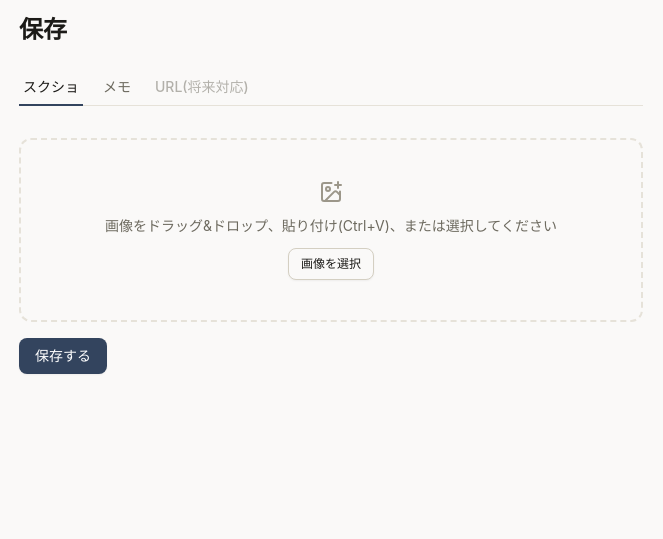
Test: SaveNotePage › 受付エラー時はバナーを表示する
Click the tab "メモ" at (117, 88), box [99, 70, 135, 106]
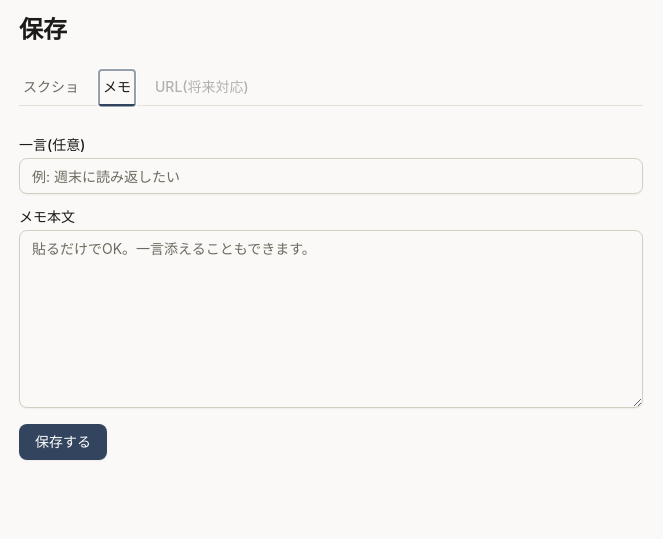
Type "本文" into the text box labelled "メモ本文" at (331, 319), box [19, 230, 643, 408]
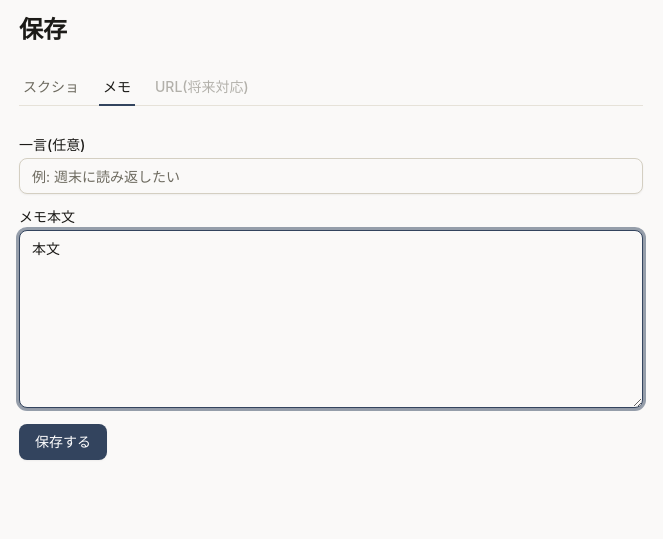
Click the button "保存する" at (63, 442), box [19, 424, 107, 460]
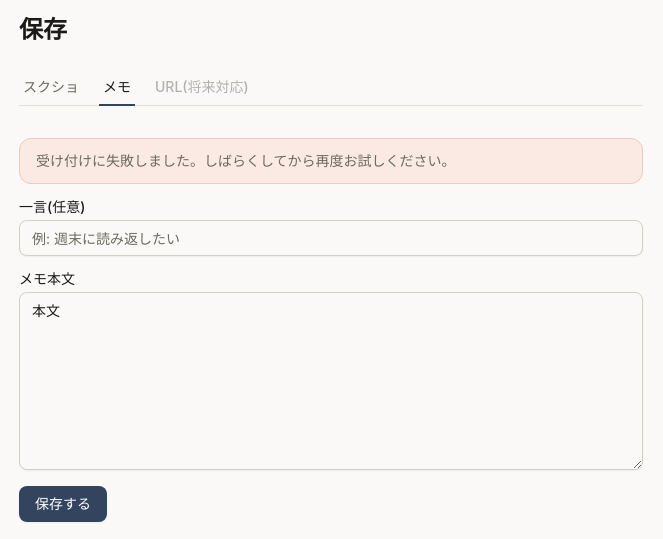
Expected: the text "受け付けに失敗しました。しばらくしてから再度お試しください。" is shown, [36, 152, 456, 169]
